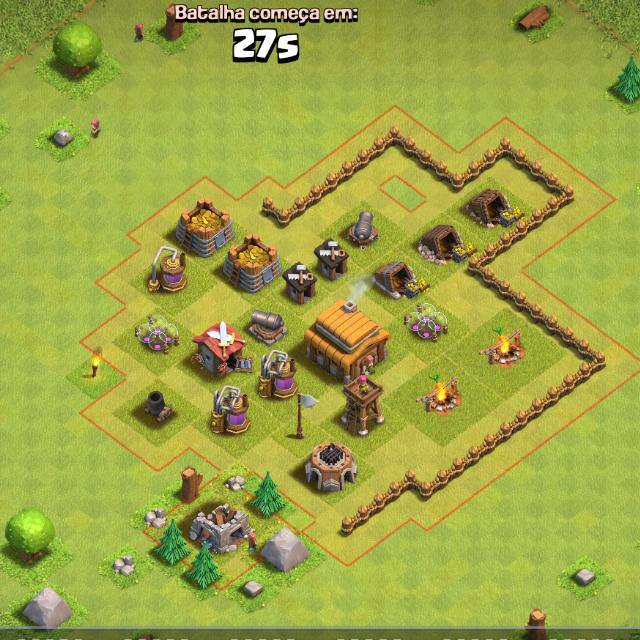Arqueira: (342, 375, 383, 435)
Canhao: (249, 306, 288, 346), (348, 208, 381, 250)
